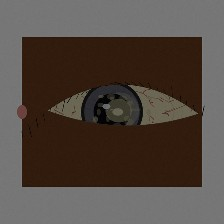corneal_ulcer: (97, 94, 140, 128)
